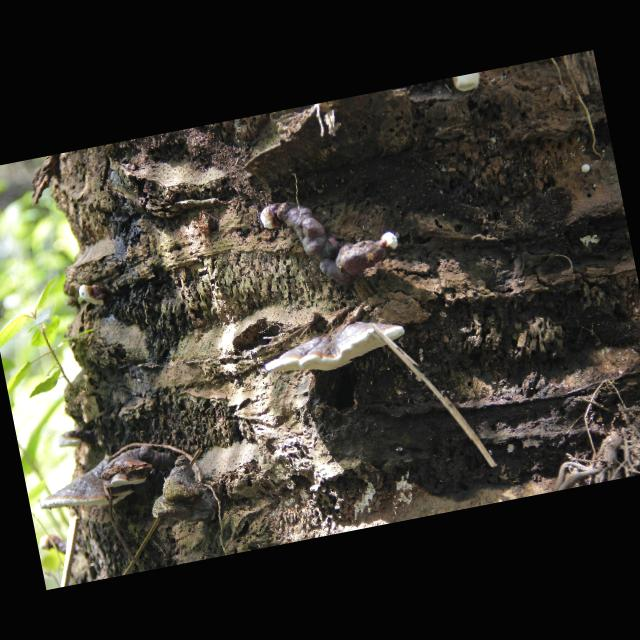ganoderma: (279, 186, 389, 298), (261, 313, 411, 385), (34, 455, 137, 520), (97, 439, 177, 492), (57, 427, 99, 452)
primordium: (79, 282, 113, 312), (453, 74, 485, 96), (260, 205, 284, 233), (38, 534, 61, 556), (380, 232, 401, 256), (582, 164, 593, 175)
